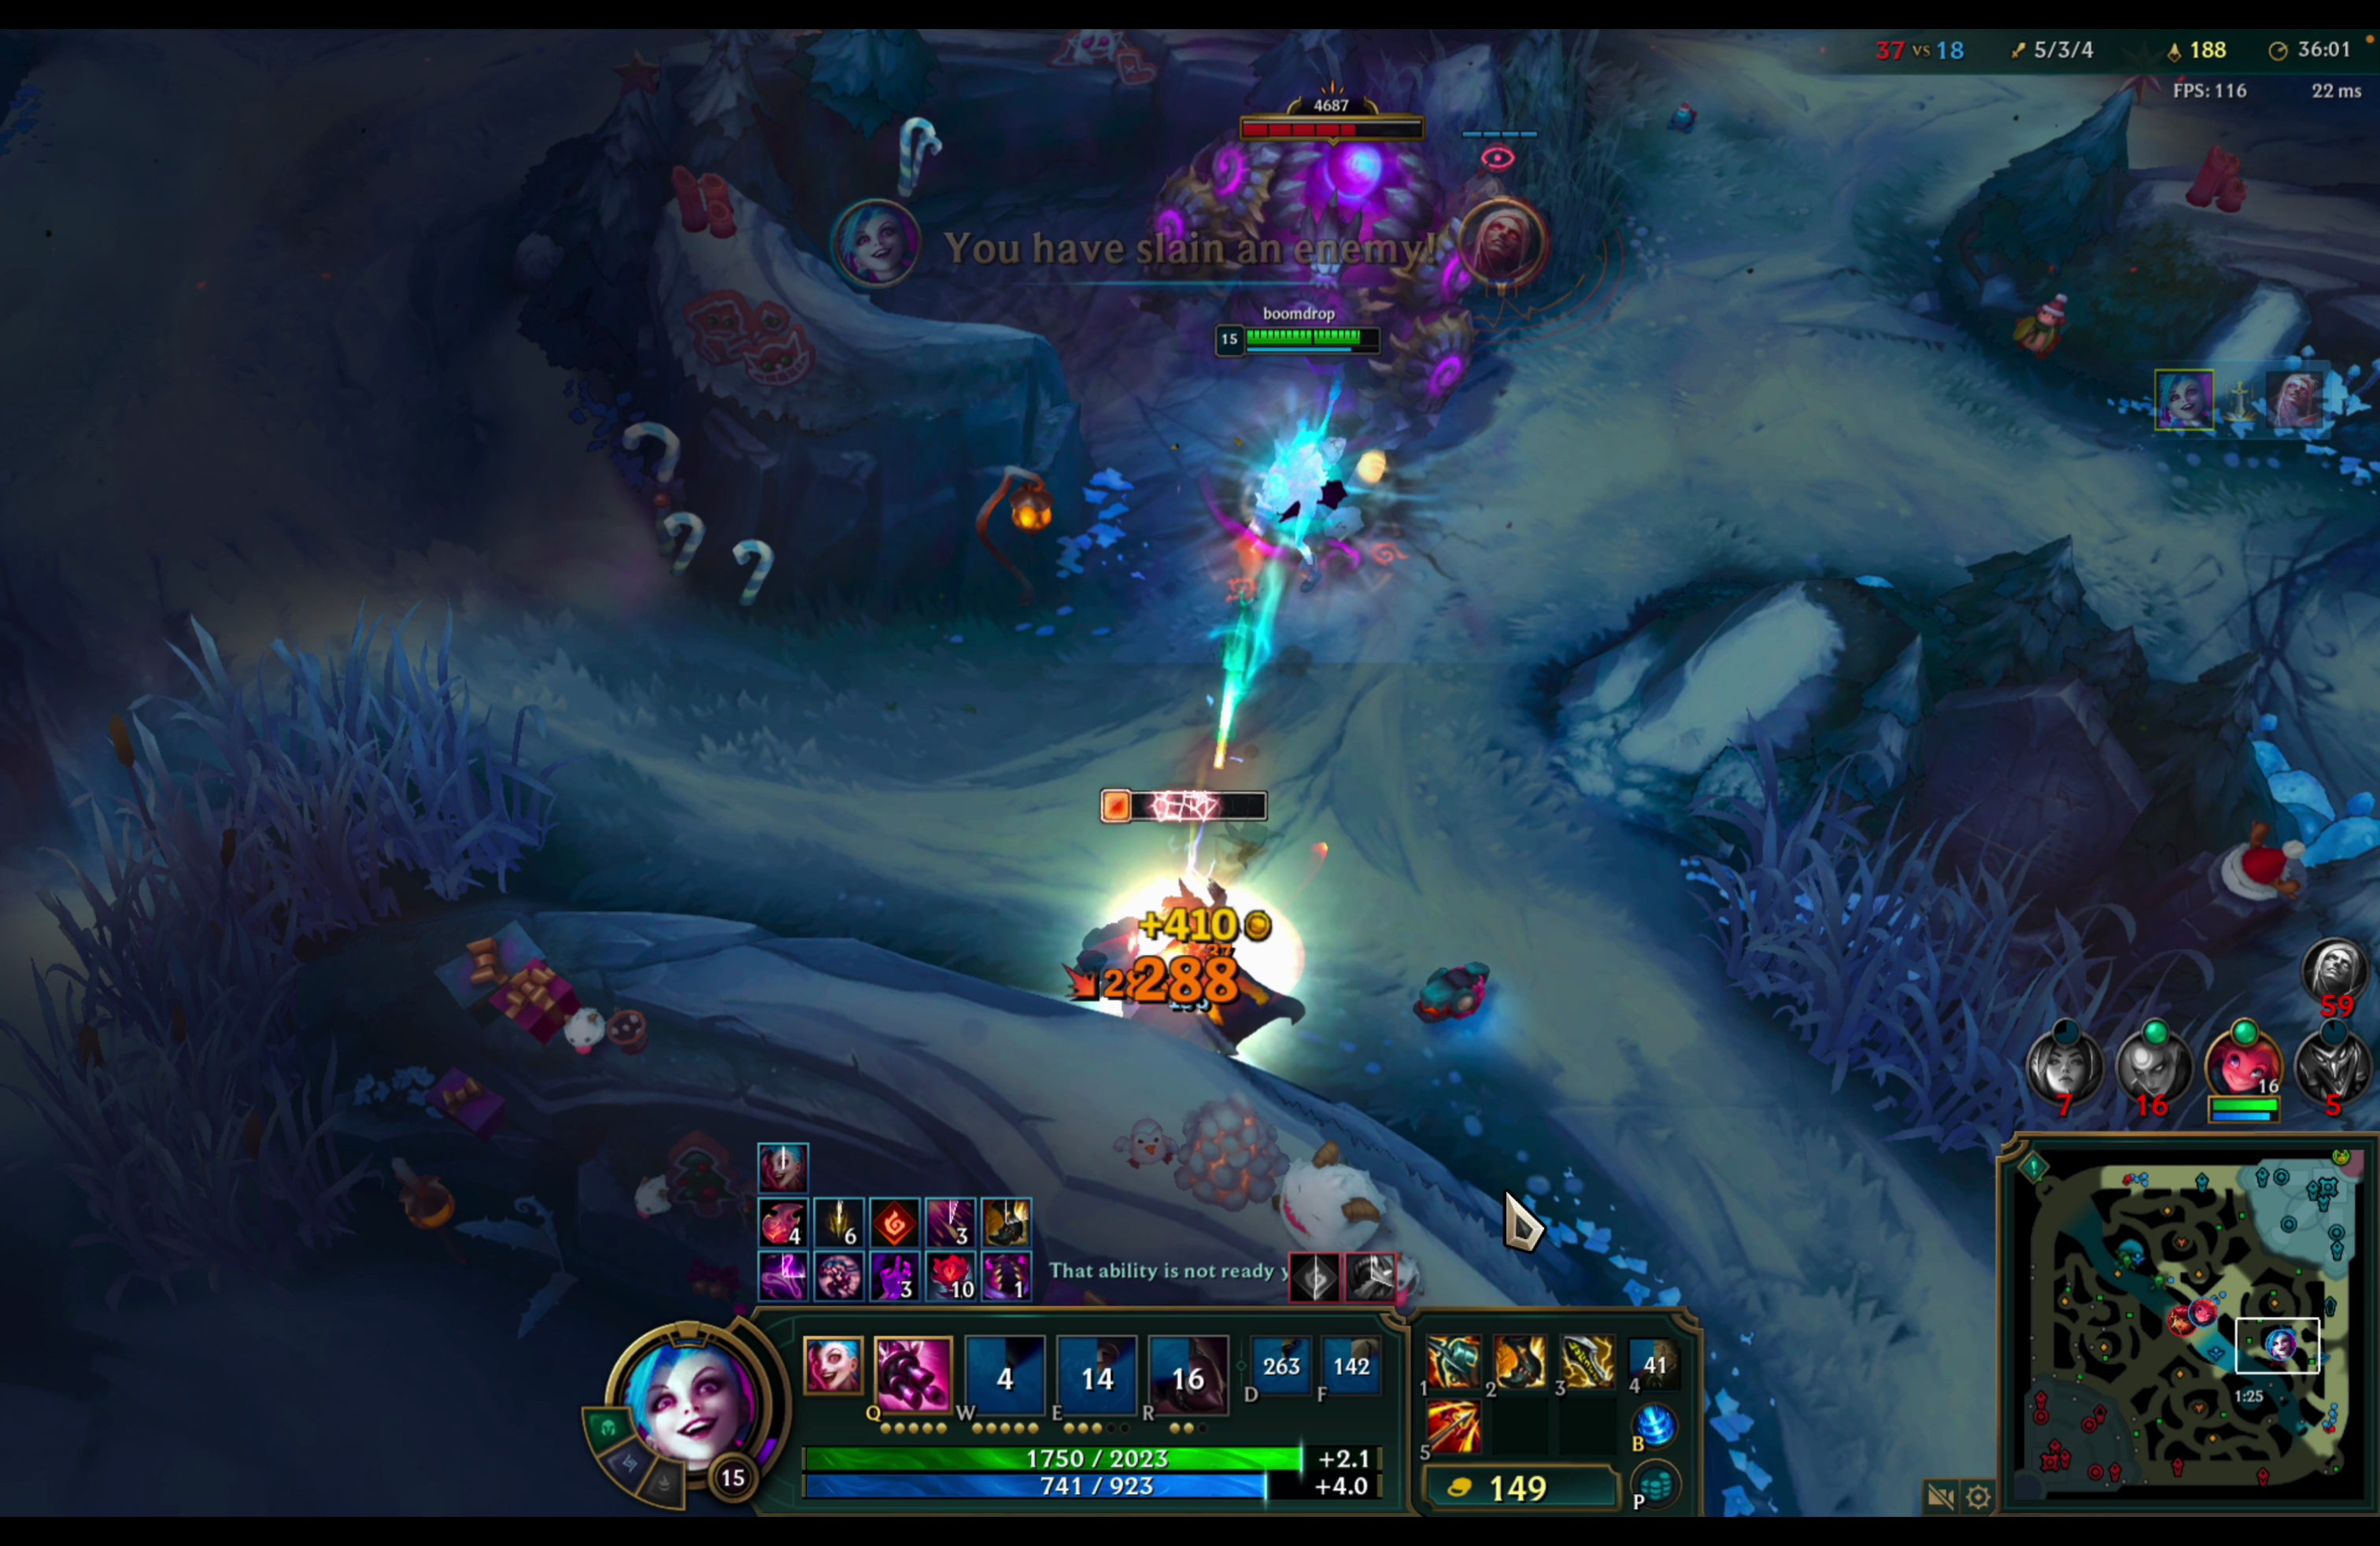JINX_W_IMPACT: (1022, 765, 1339, 1086)
